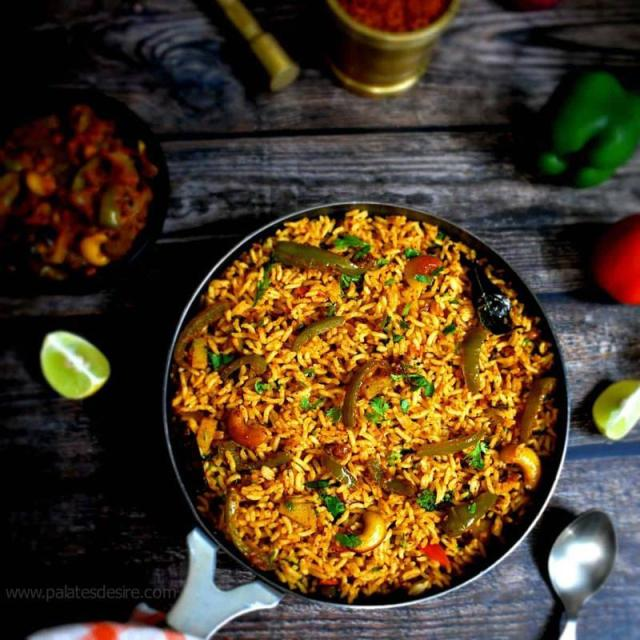vangi bath: (157, 198, 576, 612)
